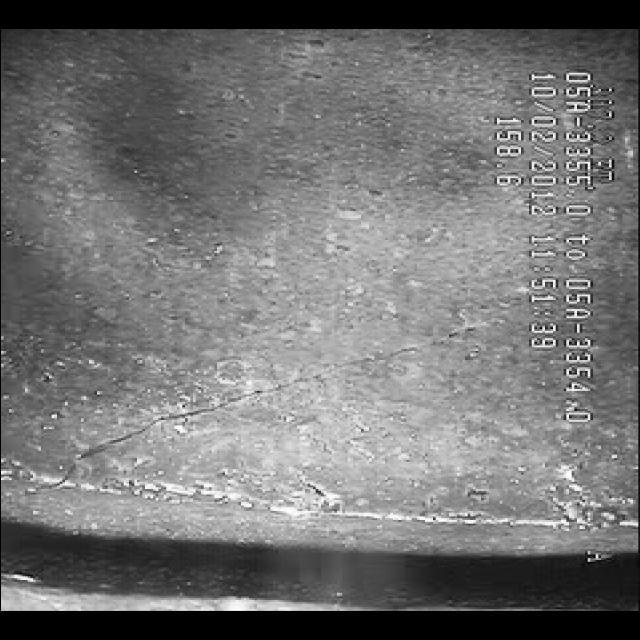Crack: (49, 308, 492, 470)
